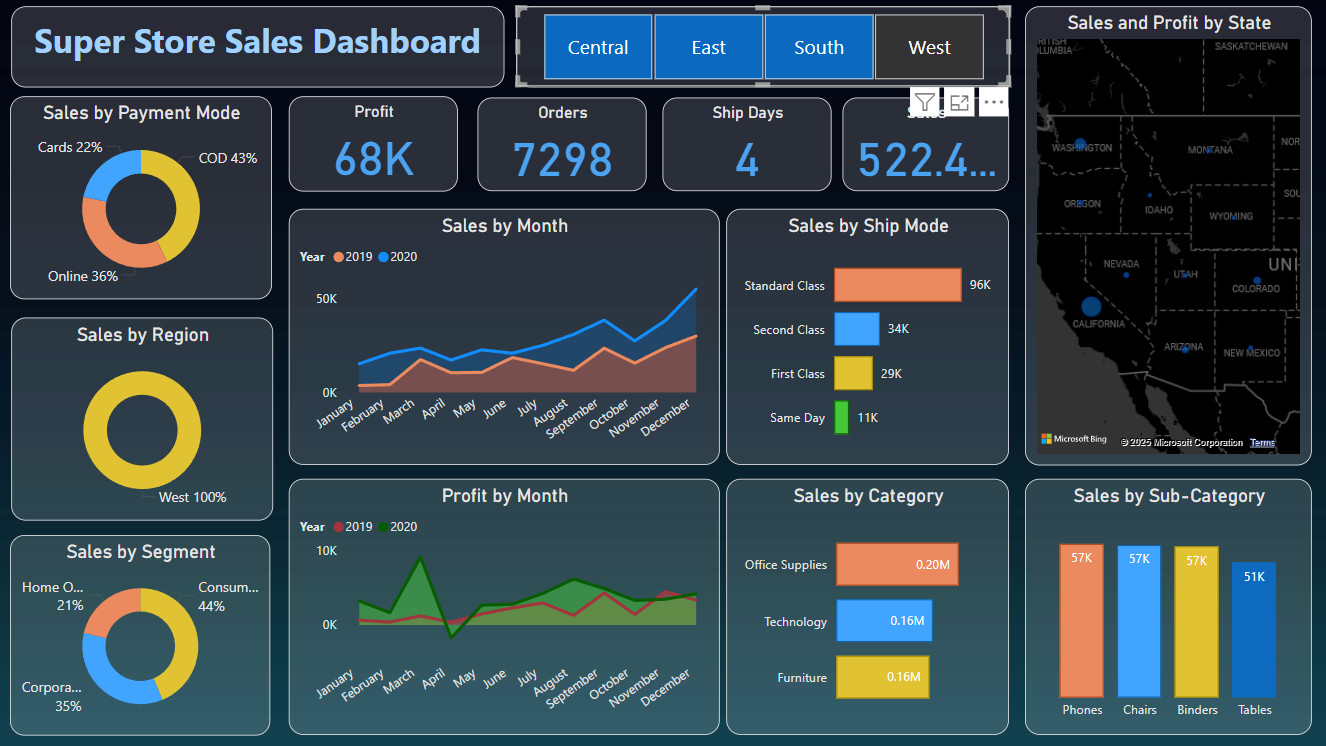

What the dashboard file says about the page in this screenshot:
{"tool":"powerbi","page":{"name":"Page 1","canvas":[1280,720],"ordinal":0},"visuals":[{"type":"clusteredBarChart","title":"Sales by Category","fields":{"Category":["Sheet1.Category"],"Y":["Sum(Sheet1.Sales)"]},"box":[701.2,462.4,273.1,247],"z":0},{"type":"clusteredColumnChart","title":"Sales by Sub-Category","fields":{"Category":["Sheet1.Sub-Category"],"Y":["Sum(Sheet1.Sales)"]},"box":[989.4,462.4,277.2,247],"z":1000},{"type":"clusteredBarChart","title":"Sales by Ship Mode","fields":{"Category":["Sheet1.Ship Mode"],"Y":["Sum(Sheet1.Sales)"]},"box":[701.2,201.7,273.1,247],"z":2000},{"type":"areaChart","title":"Sales by Month","fields":{"Series":["Sheet1.Order Date.Variation.Date Hierarchy.Year"],"Category":["Sheet1.Order Date.Variation.Date Hierarchy.Month","Sheet1.Order Date.Variation.Date Hierarchy.Day"],"Y":["Sum(Sheet1.Sales)"]},"box":[278.6,201.7,415.8,247],"z":3000},{"type":"areaChart","title":"Profit by Month ","fields":{"Category":["Sheet1.Order Date.Variation.Date Hierarchy.Month","Sheet1.Order Date.Variation.Date Hierarchy.Day"],"Y":["Sum(Sheet1.Profit)"],"Series":["Sheet1.Order Date.Variation.Date Hierarchy.Year"]},"box":[278.6,462.4,415.8,247],"z":4000},{"type":"map","title":"Sales and Profit by State","fields":{"Category":["Sheet1.State"],"Size":["Sum(Sheet1.Sales)"]},"box":[989.4,5.5,277.2,443.2],"z":5000},{"type":"donutChart","title":"Sales by Segment","fields":{"Category":["Sheet1.Segment"],"Y":["Sum(Sheet1.Sales)"]},"box":[9.6,516,251.1,193.5],"z":6000},{"type":"donutChart","title":"Sales by Payment Mode","fields":{"Category":["Sheet1.Payment Mode"],"Y":["Sum(Sheet1.Sales)"]},"box":[9.6,93.3,252.5,196.2],"z":7000},{"type":"donutChart","title":"Sales by Region","fields":{"Category":["Sheet1.Region"],"Y":["Sum(Sheet1.Sales)"]},"box":[11,306,252.5,196.2],"z":8000},{"type":"slicer","fields":{"Values":["Sheet1.Region"]},"box":[498.1,5.5,476.2,78.2],"z":9000},{"type":"textbox","box":[11,5.5,476.2,78.2],"z":10000},{"type":"card","title":"Sales","fields":{"Values":["Sum(Sheet1.Sales)"]},"box":[813.7,94.7,160.5,90.6],"z":11000},{"type":"card","title":"Orders","fields":{"Values":["Sum(Sheet1.Quantity)"]},"box":[461.1,94.7,163.3,90.6],"z":12000},{"type":"card","title":"Profit","fields":{"Values":["Sum(Sheet1.Profit)"]},"box":[278.6,93.3,163.3,91.9],"z":13000},{"type":"card","title":"Ship Days","fields":{"Values":["Avg(Sheet1.AvgDelivery)"]},"box":[639.5,94.7,163.3,90.6],"z":14000}]}

Visuals, with their boxes in screenshot pixels (x1, y1, x2, y2), scaled from the page's 1280x720 canvas onto the 1326x746 screenshot:
"Sales by Category" clusteredBarChart: box(726, 479, 1009, 735)
"Sales by Sub-Category" clusteredColumnChart: box(1025, 479, 1312, 735)
"Sales by Ship Mode" clusteredBarChart: box(726, 209, 1009, 465)
"Sales by Month" areaChart: box(289, 209, 719, 465)
"Profit by Month " areaChart: box(289, 479, 719, 735)
"Sales and Profit by State" map: box(1025, 6, 1312, 465)
"Sales by Segment" donutChart: box(10, 535, 270, 735)
"Sales by Payment Mode" donutChart: box(10, 97, 272, 300)
"Sales by Region" donutChart: box(11, 317, 273, 520)
slicer - Sheet1.Region: box(516, 6, 1009, 87)
textbox: box(11, 6, 505, 87)
"Sales" card: box(843, 98, 1009, 192)
"Orders" card: box(478, 98, 647, 192)
"Profit" card: box(289, 97, 458, 192)
"Ship Days" card: box(662, 98, 832, 192)
